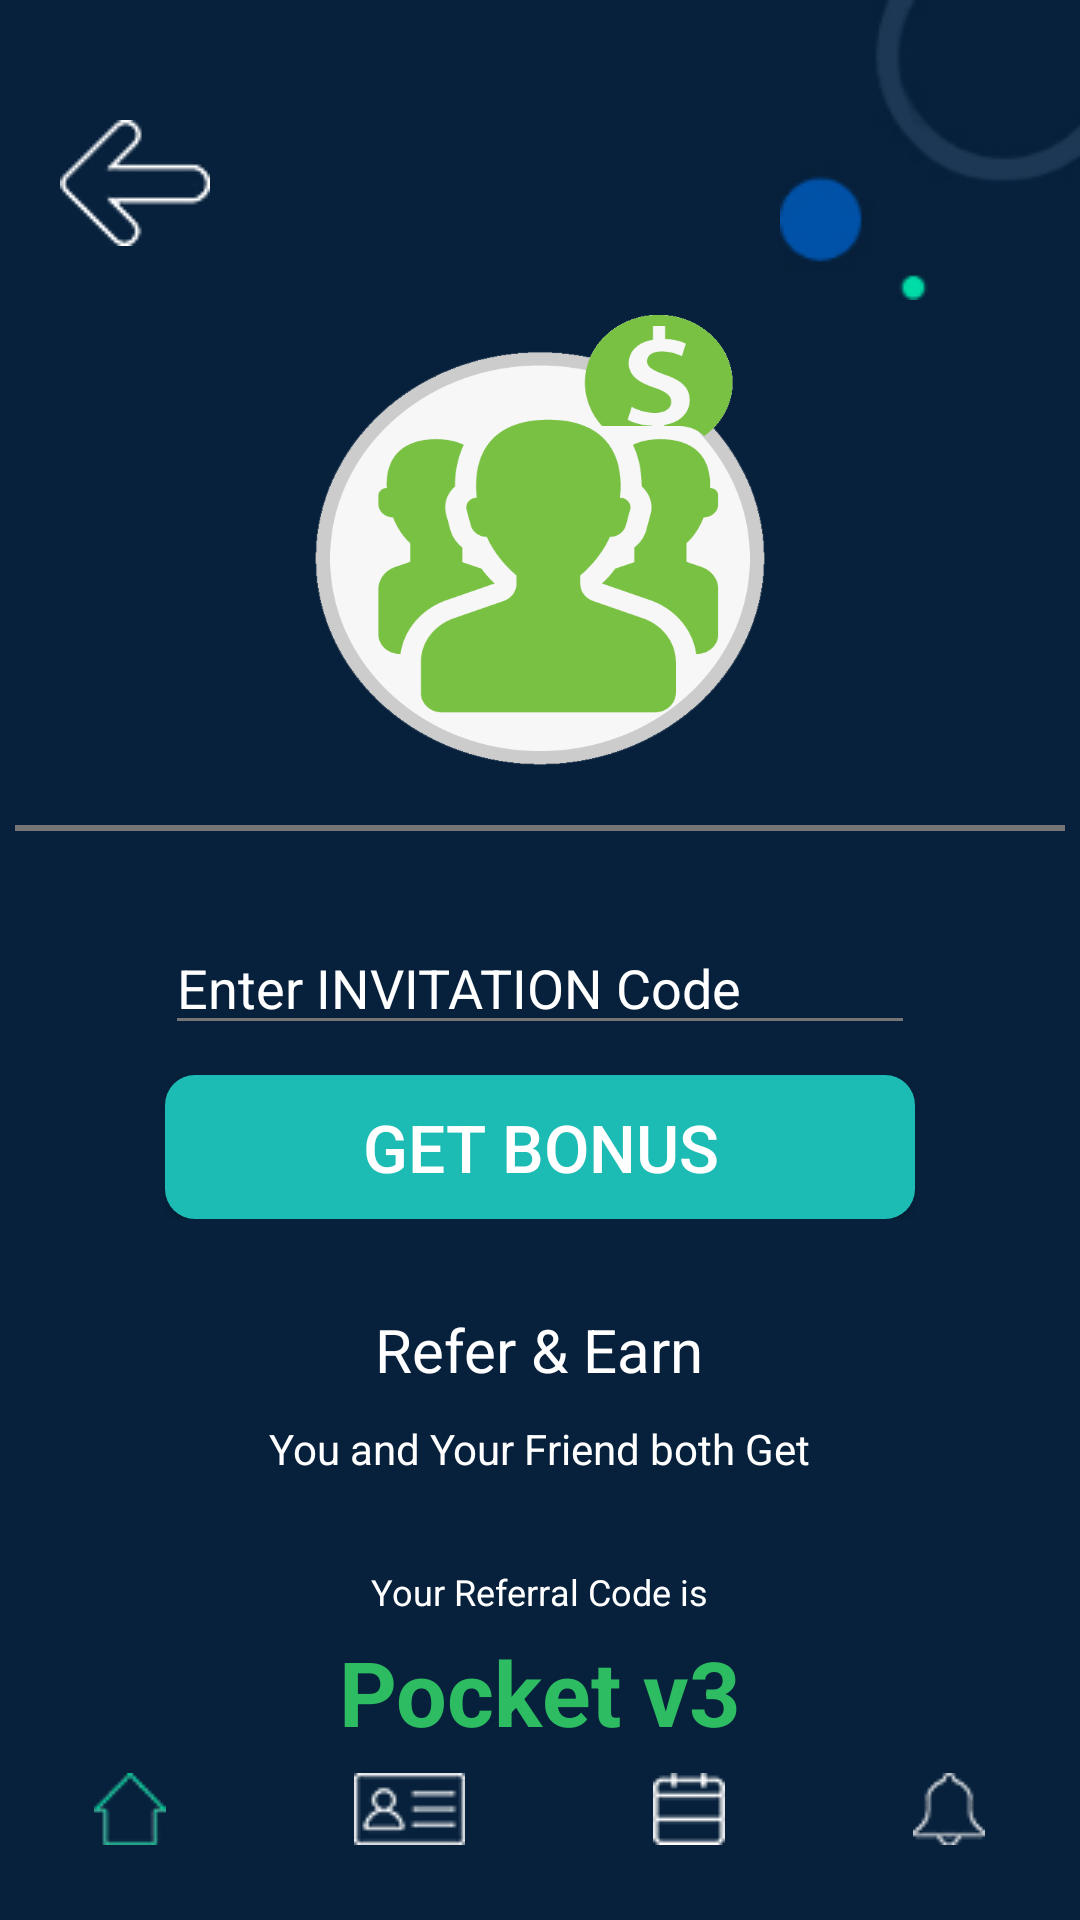

Where to tap for icons on this 1080x1920 app screen, as [x,y]:
back: [135,183]
home: [130,1809]
